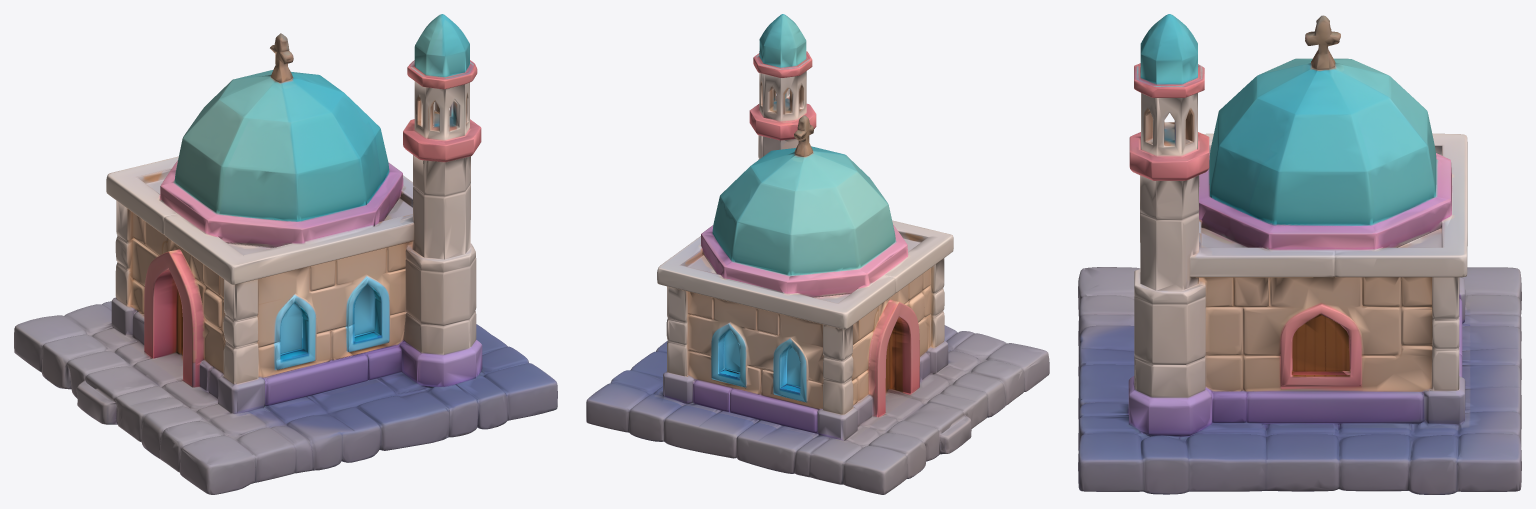
Rendered from tapinak.glb.
The picture shows the model from 3 angles, left to right: view 1: azimuth 30°, elevation 25°; view 2: azimuth 150°, elevation 25°; view 3: azimuth 270°, elevation 25°; orthographic projection. The views are drawn at different scales.
Visible parts, largest first — view 1: node_0; view 2: node_0; view 3: node_0.
Part boxes in pixels (box(x1,y1,x2,y2)): node_0: box(14, 14, 557, 494); node_0: box(586, 14, 1049, 494); node_0: box(1078, 14, 1521, 494).
Size of the model in its own units: 0.7063 by 0.7306 by 0.67.
Materials: 1 (1 with a texture image).
